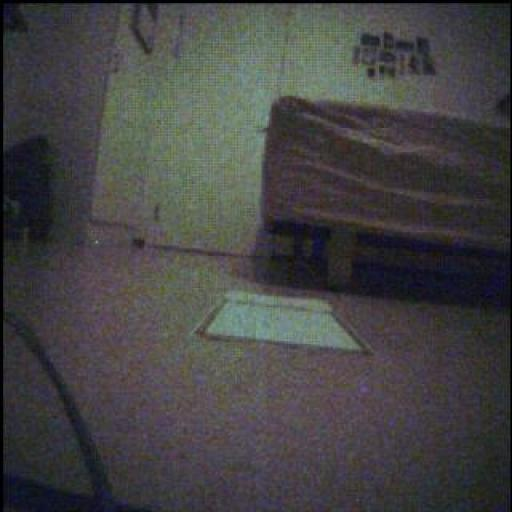pad: (196, 292, 371, 353)
